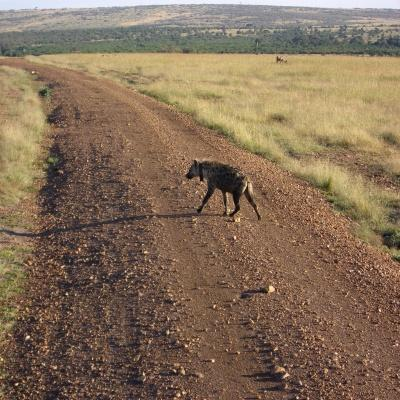hyenas: (178, 148, 267, 223)
